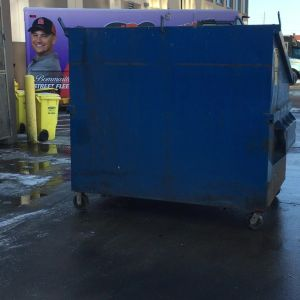Dumpster: (56, 16, 300, 236)
